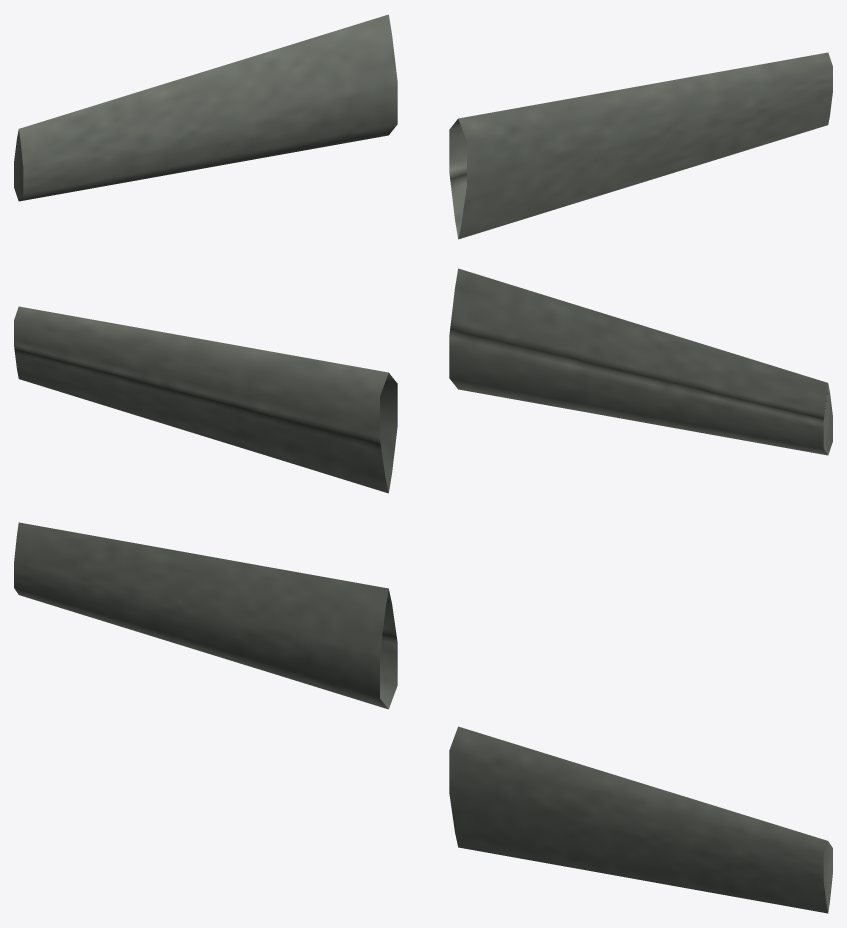
The model's file is loiter_prop.obj.
The picture shows the model from 3 angles, top to bottom: view 1: azimuth 30°, elevation 25°; view 2: azimuth 150°, elevation 25°; view 3: azimuth 330°, elevation 25°; orthographic projection.
Bounding box in the file's own units: 0.7 × 0.2 × 0.0266.
